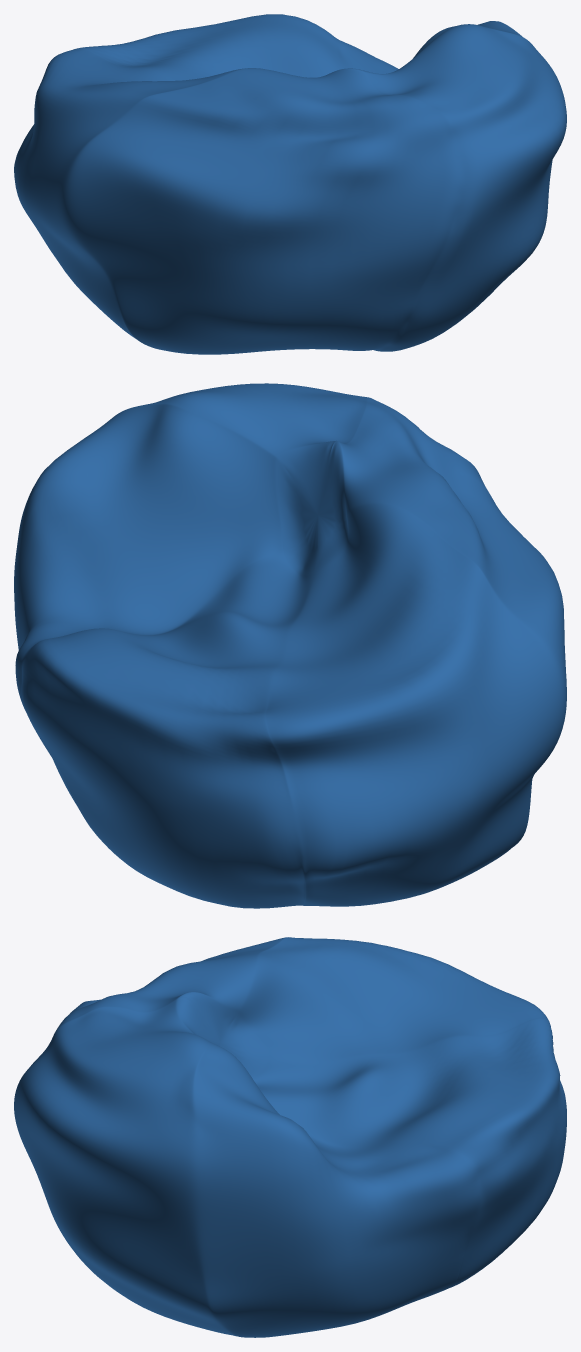
The model's file is bean2.fbx.
The picture shows the model from 3 angles, top to bottom: view 1: azimuth 30°, elevation 25°; view 2: azimuth 150°, elevation 25°; view 3: azimuth 270°, elevation 25°; orthographic projection. The views are drawn at different scales.
Visible parts, largest first — view 1: Sphere; view 2: Sphere; view 3: Sphere.
Boxes of the visible parts, bbox=[...] form: Sphere: bbox=[14, 14, 566, 354]; Sphere: bbox=[14, 383, 566, 908]; Sphere: bbox=[14, 937, 566, 1337].
Size of the model in its own units: 177 by 110 by 180.
